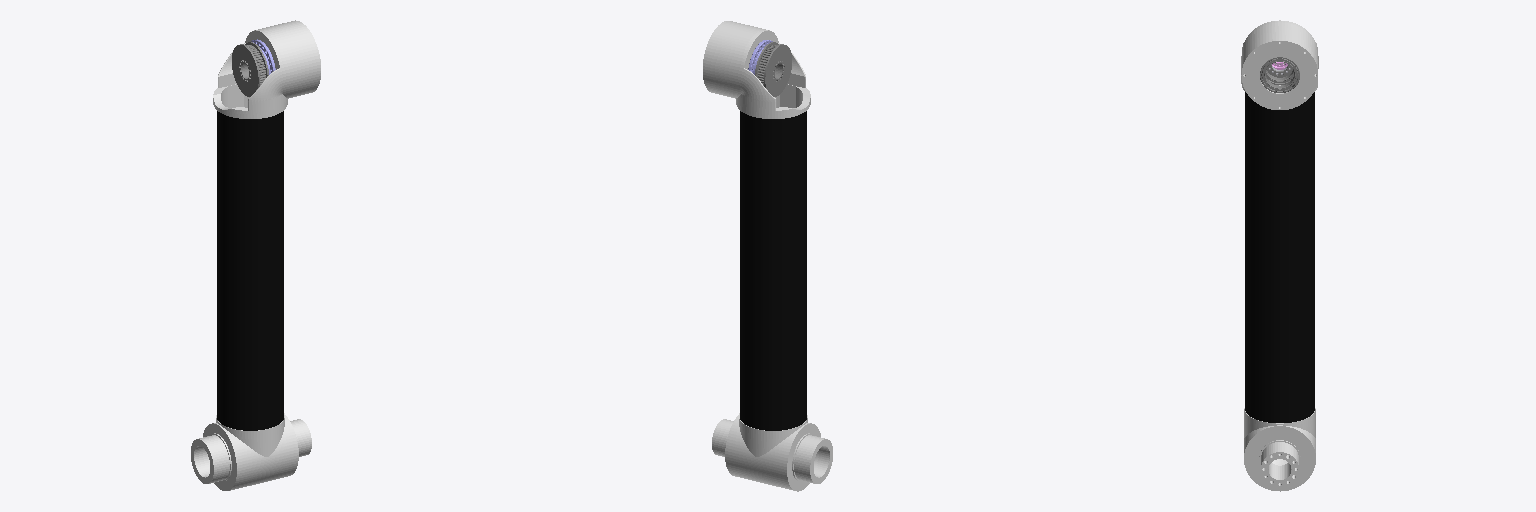
robot.urdf — rover_arm:
<?xml version="1.0"?>
<robot name="rover_arm">

  <!--DEFINING ROBOT LINKS IN ORDER FROM BASE TO HAND-->
  <link name="base_link">
    <visual>
      <origin rpy="0 0 0" xyz="0 0 0"/>
      <geometry>
        <mesh filename="package://rover_arm_urdf/urdf/dae_files/base_link.dae"/>
      </geometry>
    </visual>
    <collision>
      <origin rpy="0 0 0" xyz="0 0 0"/>
      <geometry>
        <mesh filename="package://rover_arm_urdf/urdf/stl_files/base_link.stl"/>
      </geometry>
    </collision>
    <!-- <inertial>
      <mass value="1"/>
      <inertia ixx="1.0" ixy="0.0" ixz="0.0" iyy="1.0" iyz="0.0" izz="1.0"/>
    </inertial> -->
  </link>
  
  <link name="arm_link_0">
    <visual>
      <origin rpy="0 0 0" xyz="-0.043 -0.056 0"/>
      <geometry>
        <mesh filename="package://rover_arm_urdf/urdf/dae_files/arm_link_0.dae"/>
      </geometry>
    </visual>
    <collision>
      <origin rpy="0 0 0" xyz="-0.043 -0.056 0"/>
      <geometry>
        <mesh filename="package://rover_arm_urdf/urdf/stl_files/arm_link_0.stl"/>
      </geometry>
    </collision>
    <inertial>
      <mass value="1"/>
      <inertia ixx="1.0" ixy="0.0" ixz="0.0" iyy="1.0" iyz="0.0" izz="1.0"/>
    </inertial>
  </link>

  <link name="arm_link_1">
    <visual>
      <origin rpy="0 0 0" xyz="0 0 0"/>
      <geometry>
        <mesh filename="package://rover_arm_urdf/urdf/dae_files/arm_link_1.dae"/>
      </geometry>
    </visual>
    <collision>
      <origin rpy="0 0 0" xyz="0 0 0"/>
      <geometry>
        <mesh filename="package://rover_arm_urdf/urdf/stl_files/arm_link_1.stl"/>
      </geometry>
    </collision>
    <inertial>
      <mass value="1"/>
      <inertia ixx="1.0" ixy="0.0" ixz="0.0" iyy="1.0" iyz="0.0" izz="1.0"/>
    </inertial>
  </link>

  <link name="arm_link_2">
    <visual>
      <origin rpy="0 0 0" xyz="0.063 0.000654 -0.040895"/>
      <geometry>
        <mesh filename="package://rover_arm_urdf/urdf/dae_files/arm_link_2.dae"/>
      </geometry>
    </visual>
    <collision>
      <origin rpy="0 0 0" xyz="0.063 0.000654 -0.040895"/>
      <geometry>
        <mesh filename="package://rover_arm_urdf/urdf/stl_files/arm_link_2.stl"/>
      </geometry>
    </collision>
    <inertial>
      <mass value="1"/>
      <inertia ixx="1.0" ixy="0.0" ixz="0.0" iyy="1.0" iyz="0.0" izz="1.0"/>
    </inertial>
  </link>

  <link name="arm_link_3">
    <visual>
      <origin rpy="0 0 0" xyz="0 0 -0.0086"/>
      <geometry>
        <mesh filename="package://rover_arm_urdf/urdf/dae_files/arm_link_3.dae"/>
      </geometry>
    </visual>
    <collision>
      <origin rpy="0 0 0" xyz="0 0 -0.0086"/>
      <geometry>
        <mesh filename="package://rover_arm_urdf/urdf/stl_files/arm_link_3.stl"/>
      </geometry>
    </collision>
    <inertial>
      <mass value="1"/>
      <inertia ixx="1.0" ixy="0.0" ixz="0.0" iyy="1.0" iyz="0.0" izz="1.0"/>
    </inertial>
  </link>

  <link name="arm_link_4">
    <visual>
      <origin rpy="0 0 1.57079632679" xyz="0 0 0"/>
      <geometry>
        <mesh filename="package://rover_arm_urdf/urdf/dae_files/arm_link_4.dae"/>
      </geometry>
    </visual>
    <collision>
      <origin rpy="0 0 1.57079632679" xyz="0 0 0"/>
      <geometry>
        <mesh filename="package://rover_arm_urdf/urdf/stl_files/arm_link_4.stl"/>
      </geometry>
    </collision>
    <inertial>
      <mass value="1"/>
      <inertia ixx="1.0" ixy="0.0" ixz="0.0" iyy="1.0" iyz="0.0" izz="1.0"/>
    </inertial>
  </link>

  <link name="arm_gripper">
    <visual>
      <origin rpy="0 0 0" xyz="-0.038106 0.015875 0.14921"/>
      <geometry>
        <mesh filename="package://rover_arm_urdf/urdf/dae_files/arm_gripper.dae"/>
      </geometry>
    </visual>
    <collision>
      <origin rpy="0 0 0" xyz="-0.038106 0.015875 0.14921"/>
      <geometry>
        <mesh filename="package://rover_arm_urdf/urdf/stl_files/arm_gripper.stl"/>
      </geometry>
    </collision>
    <inertial>
      <mass value="1"/>
      <inertia ixx="1.0" ixy="0.0" ixz="0.0" iyy="1.0" iyz="0.0" izz="1.0"/>
    </inertial>
  </link>



  <joint name="base_joint" type="revolute">
    <parent link="base_link"/>
    <child link="arm_link_0"/>
    <origin rpy="0 0 0" xyz="0 0.055 0.087245"/>
    <axis xyz="0 0 1"/>
    <limit effort="1000.0" lower="-1.57079632679" upper="1.57079632679" velocity="2.5"/>
  </joint>

  <joint name="shoulder_joint" type="revolute">
    <parent link="arm_link_0"/>
    <child link="arm_link_1"/>
    <origin rpy="0 0 0" xyz="0 0 0.151443"/>
    <axis xyz="1 0 0"/>
    <limit effort="1000.0" lower="-1.57079632679" upper="1.57079632679" velocity="2.5"/>
  </joint>

  <joint name="elbow_pitch_joint" type="revolute">
    <parent link="arm_link_1"/>
    <child link="arm_link_2"/>
    <origin rpy="0 0 0" xyz="0.05925 0 0.501983"/>
    <axis xyz="1 0 0"/>
    <limit effort="1000.0" lower="-1.57079632679" upper="1.57079632679" velocity="2.5"/>
  </joint>

  <joint name="elbow_roll_joint" type="revolute">
    <parent link="arm_link_2"/>
    <child link="arm_link_3"/>
    <origin rpy="0 0 0" xyz="0.063 0.000654 0.059505"/>
    <axis xyz="0 0 1"/>
    <limit effort="1000.0" lower="-3.141592653589793" upper="3.141592653589793" velocity="2.5"/>
  </joint>

  <joint name="wrist_pitch_joint" type="revolute">
    <parent link="arm_link_3"/>
    <child link="arm_link_4"/>
    <origin rpy="0 0 0" xyz="-0.065 0 0.3318"/>
    <axis xyz="1 0 0"/>
    <limit effort="1000.0" lower="-1.57079632679" upper="3.141592653589793" velocity="2.5"/>
  </joint>

  <joint name="wrist_roll_joint" type="continuous">
    <parent link="arm_link_4"/>
    <child link="arm_gripper"/>
    <origin rpy="0 0 0" xyz="-0.050 0 0.050484"/>
    <axis xyz="0 0 1"/>
    <limit effort="1000.0" velocity="2.5"/>
  </joint>

</robot>

--- Render facts (derived) ---
The picture shows the robot from 3 angles, left to right: view 1: azimuth 30°, elevation 25°; view 2: azimuth 150°, elevation 25°; view 3: azimuth 270°, elevation 25°; orthographic projection.
Model rover_arm with 7 links and 6 joints (5 revolute, 1 continuous), rooted at base_link, posed all joints at 0.
Links seen in each view (by area): view 1: arm_link_1; view 2: arm_link_1; view 3: arm_link_1.
Boxes of the visible links, box(x1,y1,x2,y2) form: arm_link_1: box(191, 20, 320, 490); arm_link_1: box(703, 21, 832, 491); arm_link_1: box(1241, 20, 1318, 491).
Size in the robot's own frame: 125 by 80 by 529 metres.
Meshes: 7 distinct files referenced, 1 mesh visuals loaded (1 Collada DAE); not drawn: 6 (reference not matched to a file when rendering).